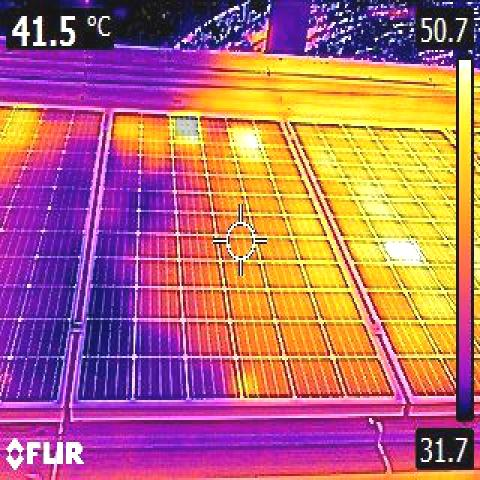fault: (10, 110, 35, 142), (386, 241, 419, 264), (230, 126, 262, 148), (175, 118, 198, 136)
